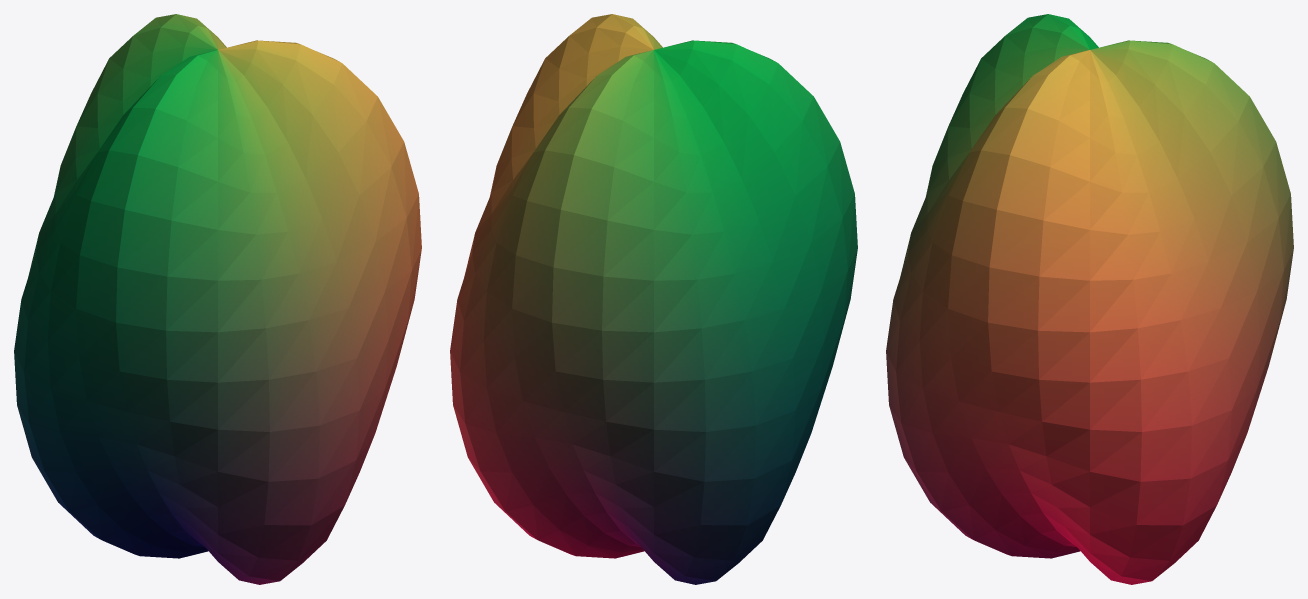
Rendered from test-vertex-colour.obj.
3 views of the same model, side by side, from view 1: azimuth 30°, elevation 25°; view 2: azimuth 150°, elevation 25°; view 3: azimuth 270°, elevation 25° (orthographic).
Size of the model in its own units: 2 by 2.9 by 2.07.
